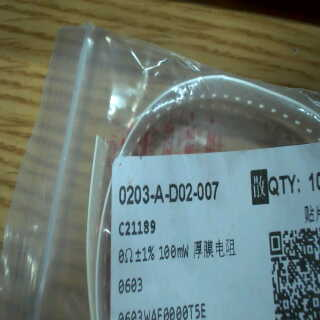0R: (115, 240, 193, 298)
